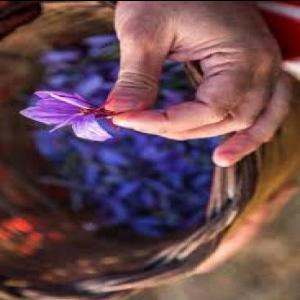Saffron: (20, 91, 111, 140)
